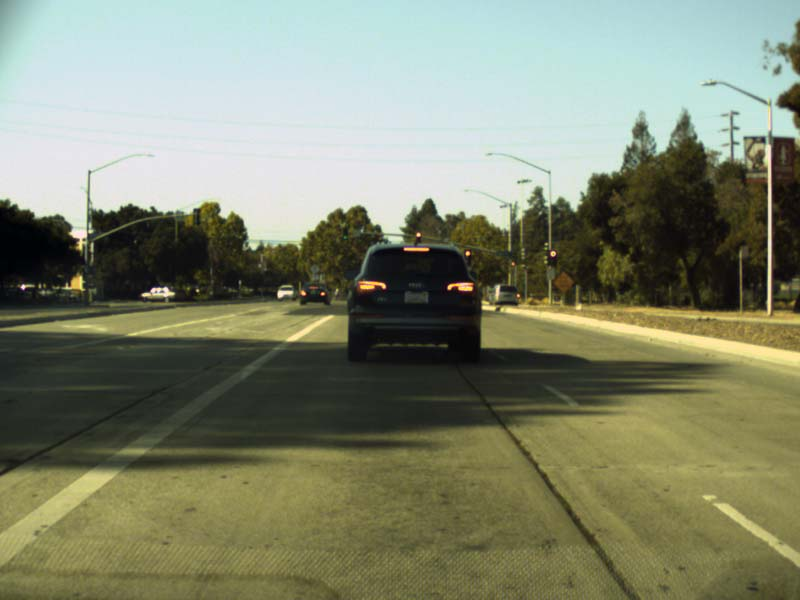Green: (343, 227, 347, 239)
Red: (549, 249, 556, 265), (464, 250, 470, 258), (416, 232, 420, 242)
